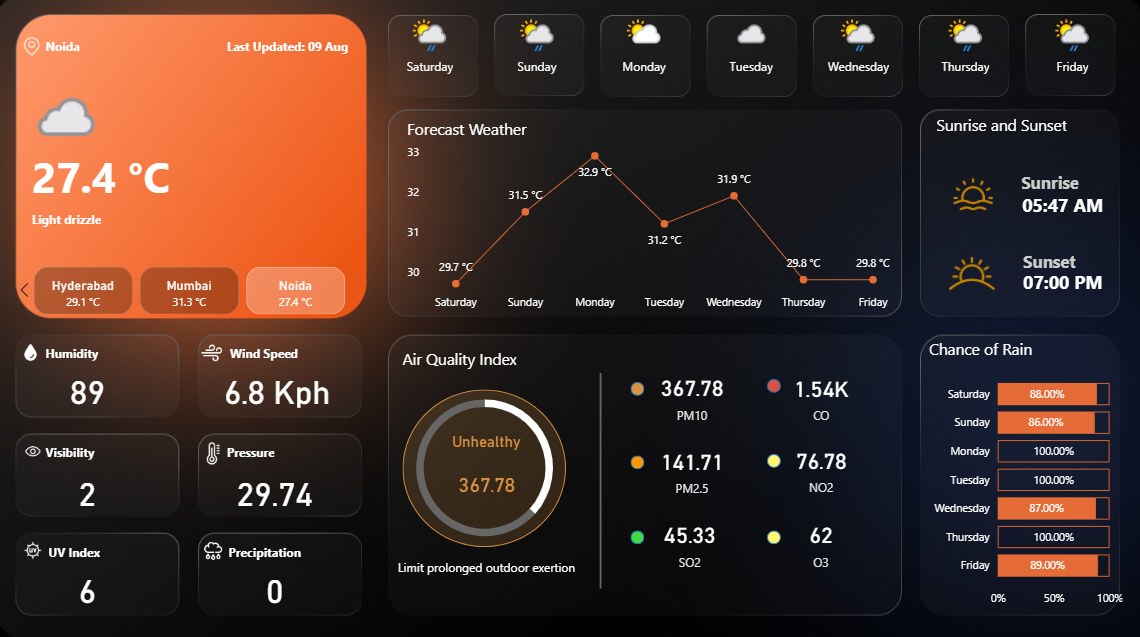

The dashboard page shown, as its layout file describes it:
{"tool":"powerbi","page":{"name":"Page 1","canvas":[1280,720],"ordinal":0},"visuals":[{"type":"shape","box":[455,438.3,181.7,175],"z":0},{"type":"advancedSlicerVisual","fields":{"Values":["Location.location.name"]},"box":[19.5,295.9,398.3,63.4],"z":1000},{"type":"shape","box":[43.9,138.2,235.7,123.6],"z":2000},{"type":"shape","box":[43.9,187,177.2,125.2],"z":3000},{"type":"shape","box":[59.1,25.6,137.4,62.3],"z":4000},{"type":"shape","box":[260.1,34.1,160.9,45.5],"z":5000},{"type":"image","box":[22.4,41.5,43.1,30.4],"z":6000},{"type":"cardVisual","fields":{"Data":["Min(Current.current.condition.icon)"]},"box":[14.6,73.2,118.7,92.7],"z":7000},{"type":"shape","box":[59.1,375.5,161.4,44.7],"z":8000},{"type":"image","box":[22.4,381.8,39.9,30.4],"z":9000},{"type":"image","box":[22.4,492.1,44.7,30.4],"z":10000},{"type":"shape","box":[59.1,485.7,161.4,44.7],"z":11000},{"type":"image","box":[22.4,602.3,44.7,30.4],"z":12000},{"type":"shape","box":[62.3,595.9,161.4,44.7],"z":13000},{"type":"image","box":[223.7,380.2,39.9,35.1],"z":14000},{"type":"image","box":[225.3,492.1,39.9,35.1],"z":15000},{"type":"image","box":[225.3,600.7,39.9,35.1],"z":16000},{"type":"shape","box":[263.6,375.5,161.4,44.7],"z":17000},{"type":"shape","box":[260.4,485.7,161.4,44.7],"z":18000},{"type":"shape","box":[262,595.9,161.4,44.7],"z":19000},{"type":"card","fields":{"Values":["Sum(Current.current.humidity)"]},"box":[45.5,412.9,118.7,50.4],"z":20000},{"type":"card","fields":{"Values":["_Measure.Wind_Speed"]},"box":[226,412.9,177.2,50.4],"z":21000},{"type":"card","fields":{"Values":["Sum(Current.current.vis_km)"]},"box":[45.5,523.5,118.7,55.3],"z":22000},{"type":"card","fields":{"Values":["Sum(Current.current.pressure_in)"]},"box":[253.6,523.5,118.7,55.3],"z":23000},{"type":"card","fields":{"Values":["Sum(Current.current.uv)"]},"box":[45.5,632.4,118.7,55.3],"z":24000},{"type":"card","fields":{"Values":["Sum(Current.current.precip_mm)"]},"box":[253.6,632.4,118.7,55.3],"z":25000},{"type":"advancedSlicerVisual","fields":{"Values":["Forecast_Day.Day_Name"]},"box":[424.3,14.6,835.6,105.7],"z":26000},{"type":"lineChart","title":"Forecast Weather","fields":{"Y":["Sum(Forecast_Day.forecast.forecastday.day.avgtemp_c)"],"Category":["Forecast_Day.Day_Name"]},"box":[455.6,137,558.4,222.7],"z":27000},{"type":"shape","box":[1048.1,121.4,161.4,44.7],"z":28000},{"type":"shape","box":[1105.6,186.9,139,41.5],"z":29000},{"type":"shape","box":[1108.8,274.8,131,41.5],"z":30000},{"type":"shape","box":[1116.8,212.5,143.8,43.1],"z":31000},{"type":"shape","box":[1120,295.6,137.4,47.9],"z":32000},{"type":"image","box":[1060.9,193.3,54.3,55.9],"z":33000},{"type":"image","box":[1048.1,260.4,78.3,99.1],"z":34000},{"type":"hundredPercentStackedBarChart","title":"Chance of Rain","fields":{"Category":["Forecast_Day.Day_Name"],"Y":["Sum(Forecast_Day.forecast.forecastday.day.daily_chance_of_rain)","Current.Left_value_rain"]},"box":[1035.3,381.8,225.3,306.8],"z":35000},{"type":"shape","box":[455.3,381.8,174.1,44.7],"z":36000},{"type":"card","fields":{"Values":["Sum(Current.current.air_quality.co)"]},"box":[868.5,404.3,103.2,81.5],"z":37000},{"type":"card","fields":{"Values":["Sum(Current.current.air_quality.no2)"]},"box":[868.5,485.8,103.2,81.5],"z":38000},{"type":"card","fields":{"Values":["Sum(Current.current.air_quality.o3)"]},"box":[868.4,568.6,102.8,80.5],"z":39000},{"type":"card","fields":{"Values":["Sum(Current.current.air_quality.pm10)"]},"box":[724.5,404.2,102.8,80.5],"z":40000},{"type":"card","fields":{"Values":["Sum(Current.current.air_quality.pm2_5)"]},"box":[724.5,486.4,102.8,80.5],"z":41000},{"type":"card","fields":{"Values":["Sum(Current.current.air_quality.so2)"]},"box":[724.5,568.6,97.6,80.5],"z":42000},{"type":"shape","box":[709.1,429.9,15.4,15.4],"z":43000},{"type":"shape","box":[859.8,426.5,15.4,15.4],"z":44000},{"type":"shape","box":[709.1,512.1,15.4,15.4],"z":45000},{"type":"shape","box":[709.1,594.3,15.4,15.4],"z":46000},{"type":"shape","box":[859.8,510.4,15.4,15.4],"z":47000},{"type":"shape","box":[859.8,594.3,15.4,15.4],"z":48000},{"type":"shape","box":[600.7,420.2,150.2,239.7],"z":49000},{"type":"card","fields":{"Values":["Sum(Current.current.air_quality.pm10)"]},"box":[493.3,486.7,110,95],"z":50000},{"type":"donutChart","fields":{"Y":["Sum(Current.current.air_quality.pm10)","_Measure.left_value_PM10"]},"box":[441.7,425,208.3,200],"z":51000},{"type":"shape","box":[443.3,608.3,210,53.3],"z":51001}]}

Visuals, with their boxes in screenshot pixels (x1, y1, x2, y2), scaled from the page's 1280x720 canvas onto the 1140x637 screenshot:
shape: left=405, top=388, right=567, bottom=543
advancedSlicerVisual - Location.location.name: left=17, top=262, right=372, bottom=318
shape: left=39, top=122, right=249, bottom=232
shape: left=39, top=165, right=197, bottom=276
shape: left=53, top=23, right=175, bottom=78
shape: left=232, top=30, right=375, bottom=70
image: left=20, top=37, right=58, bottom=64
cardVisual - Min(Current.current.condition.icon): left=13, top=65, right=119, bottom=147
shape: left=53, top=332, right=196, bottom=372
image: left=20, top=338, right=55, bottom=365
image: left=20, top=435, right=60, bottom=462
shape: left=53, top=430, right=196, bottom=469
image: left=20, top=533, right=60, bottom=560
shape: left=55, top=527, right=199, bottom=567
image: left=199, top=336, right=235, bottom=367
image: left=201, top=435, right=236, bottom=466
image: left=201, top=531, right=236, bottom=563
shape: left=235, top=332, right=379, bottom=372
shape: left=232, top=430, right=376, bottom=469
shape: left=233, top=527, right=377, bottom=567
card - Sum(Current.current.humidity): left=41, top=365, right=146, bottom=410
card - _Measure.Wind_Speed: left=201, top=365, right=359, bottom=410
card - Sum(Current.current.vis_km): left=41, top=463, right=146, bottom=512
card - Sum(Current.current.pressure_in): left=226, top=463, right=332, bottom=512
card - Sum(Current.current.uv): left=41, top=559, right=146, bottom=608
card - Sum(Current.current.precip_mm): left=226, top=559, right=332, bottom=608
advancedSlicerVisual - Forecast_Day.Day_Name: left=378, top=13, right=1122, bottom=106
"Forecast Weather" lineChart: left=406, top=121, right=903, bottom=318
shape: left=933, top=107, right=1077, bottom=147
shape: left=985, top=165, right=1108, bottom=202
shape: left=988, top=243, right=1104, bottom=280
shape: left=995, top=188, right=1123, bottom=226
shape: left=998, top=262, right=1120, bottom=304
image: left=945, top=171, right=993, bottom=220
image: left=933, top=230, right=1003, bottom=318
"Chance of Rain" hundredPercentStackedBarChart: left=922, top=338, right=1123, bottom=609
shape: left=406, top=338, right=561, bottom=377
card - Sum(Current.current.air_quality.co): left=774, top=358, right=865, bottom=430
card - Sum(Current.current.air_quality.no2): left=774, top=430, right=865, bottom=502
card - Sum(Current.current.air_quality.o3): left=773, top=503, right=865, bottom=574
card - Sum(Current.current.air_quality.pm10): left=645, top=358, right=737, bottom=429
card - Sum(Current.current.air_quality.pm2_5): left=645, top=430, right=737, bottom=502
card - Sum(Current.current.air_quality.so2): left=645, top=503, right=732, bottom=574
shape: left=632, top=380, right=645, bottom=394
shape: left=766, top=377, right=779, bottom=391
shape: left=632, top=453, right=645, bottom=467
shape: left=632, top=526, right=645, bottom=539
shape: left=766, top=452, right=779, bottom=465
shape: left=766, top=526, right=779, bottom=539
shape: left=535, top=372, right=669, bottom=584
card - Sum(Current.current.air_quality.pm10): left=439, top=431, right=537, bottom=515
donutChart - Sum(Current.current.air_quality.pm10) x _Measure.left_value_PM10: left=393, top=376, right=579, bottom=553
shape: left=395, top=538, right=582, bottom=585
